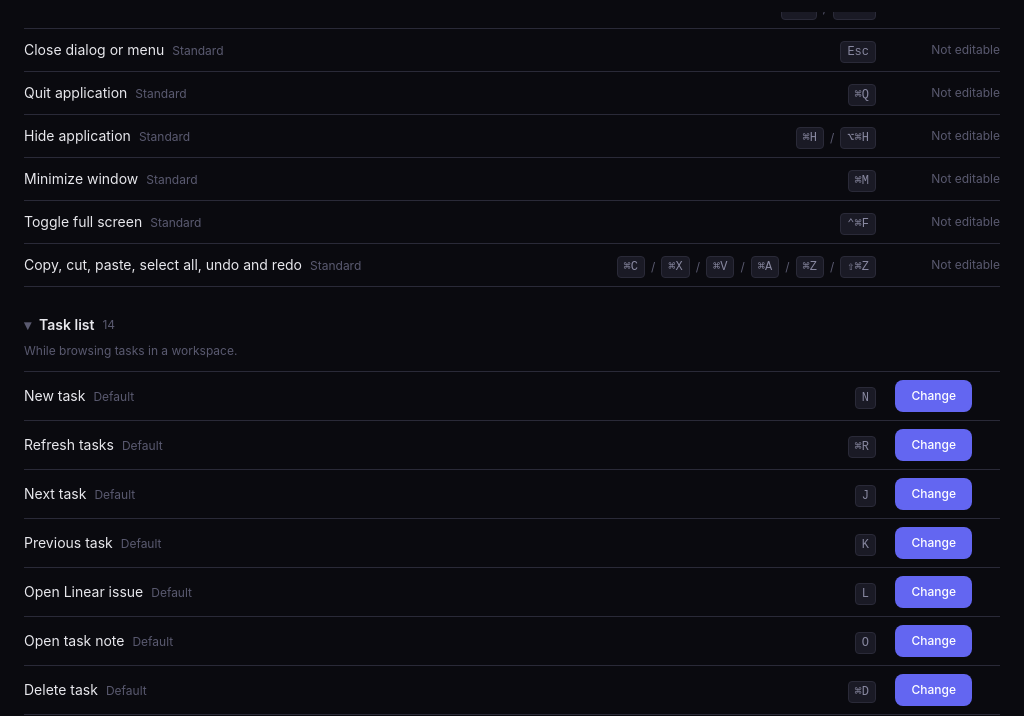
blocks protected navigation and simultaneous letters
(page scrolled)
Click the button with aria-label "Change New task (Task list)".
click(934, 396)  # box [896,380,972,412]
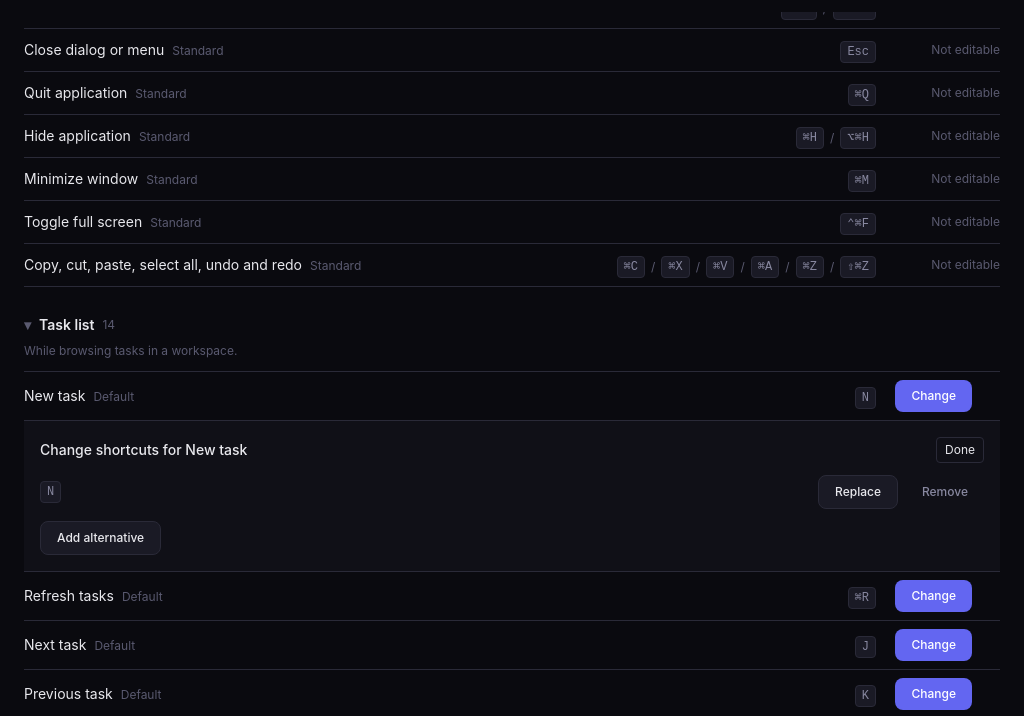
Click the button "Add alternative".
click(101, 538)  # box [40,521,161,555]
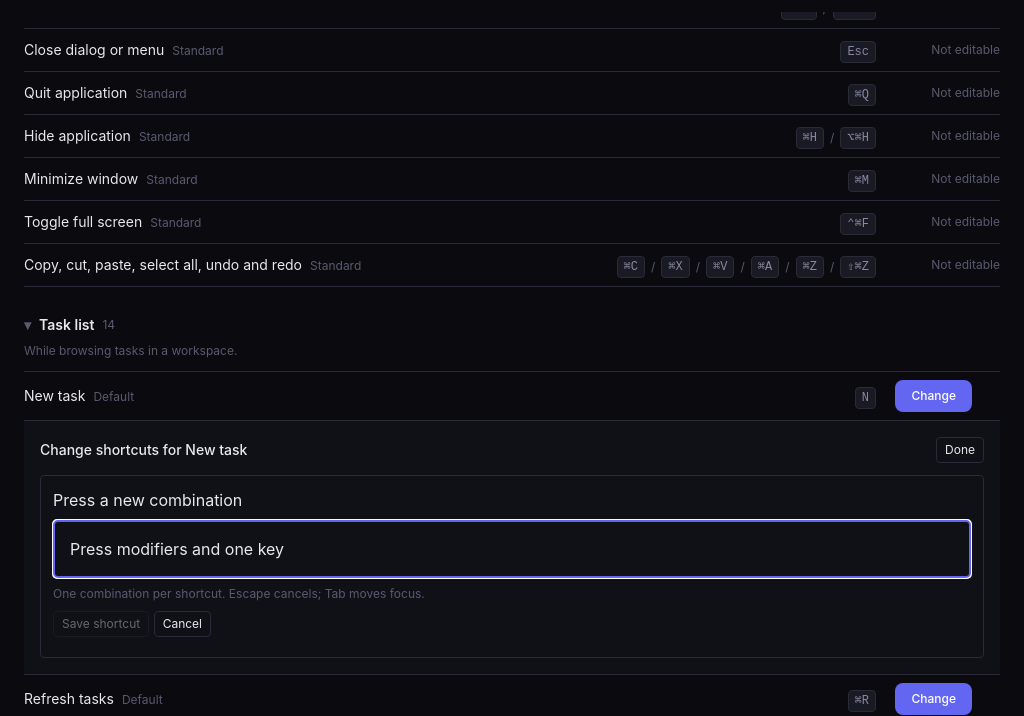
Press Enter in the text named "Record shortcut", box [53,520,971,578]
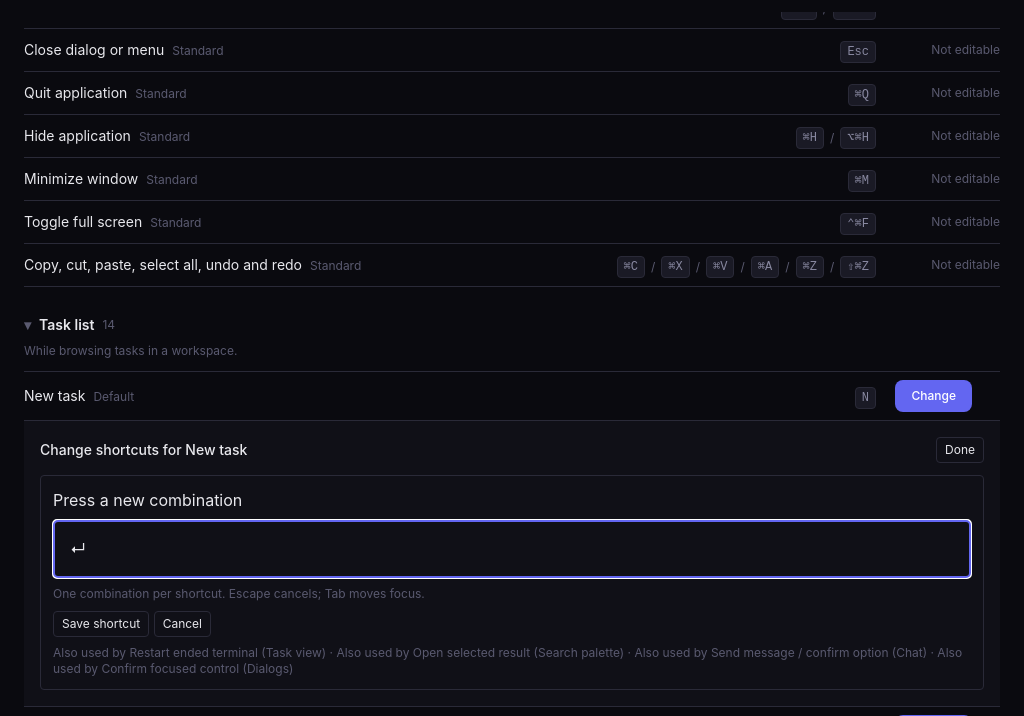
Click the button "Save shortcut".
click(101, 624)  # box [53,611,149,637]
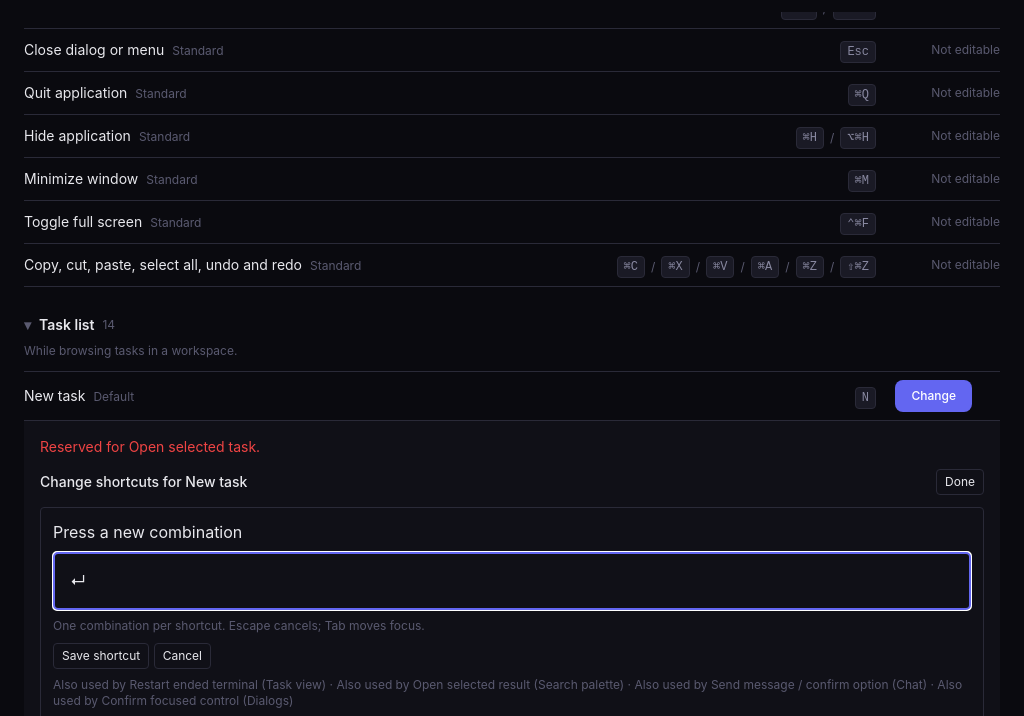
Check: the message shows "Reserved", box [40,438,260,455]
Press k in the text named "Record shortcut", box [53,552,971,610]
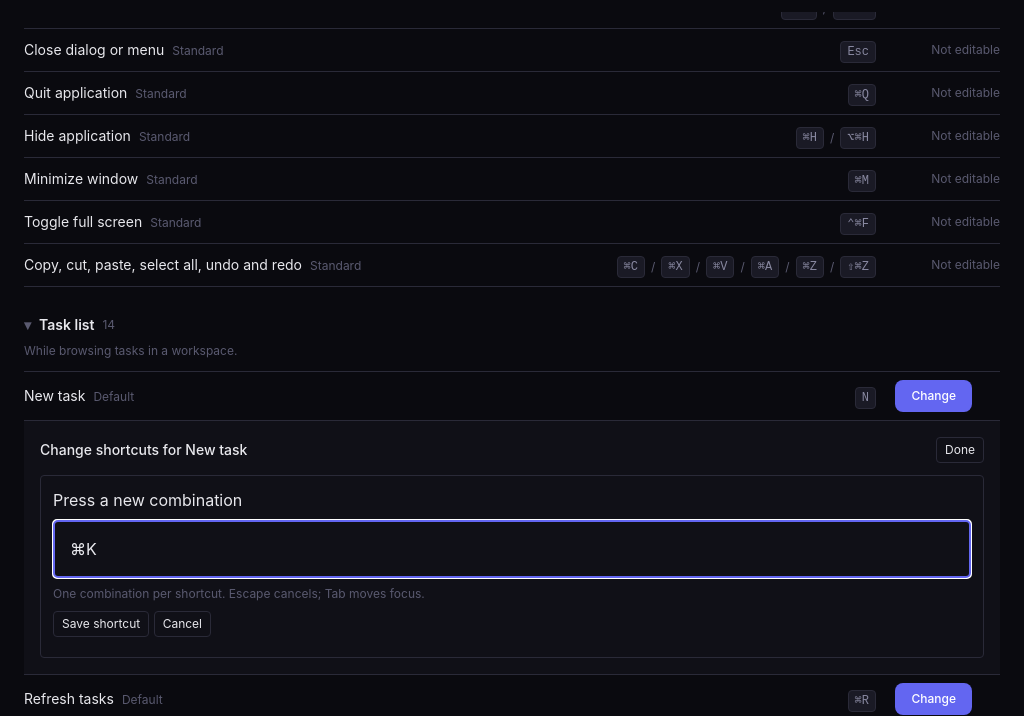
Press r in the text named "Record shortcut", box [53,520,971,578]
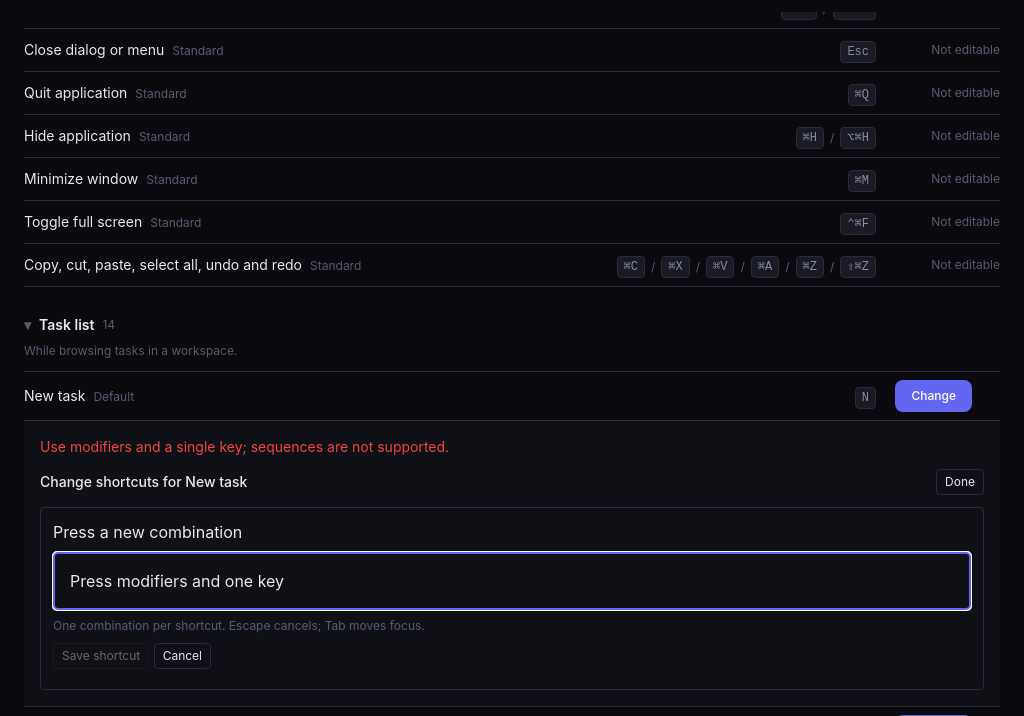
Check: the message shows "single key", box [40,438,449,455]
Check: the button "Save shortcut" is disabled, box [53,643,149,669]
